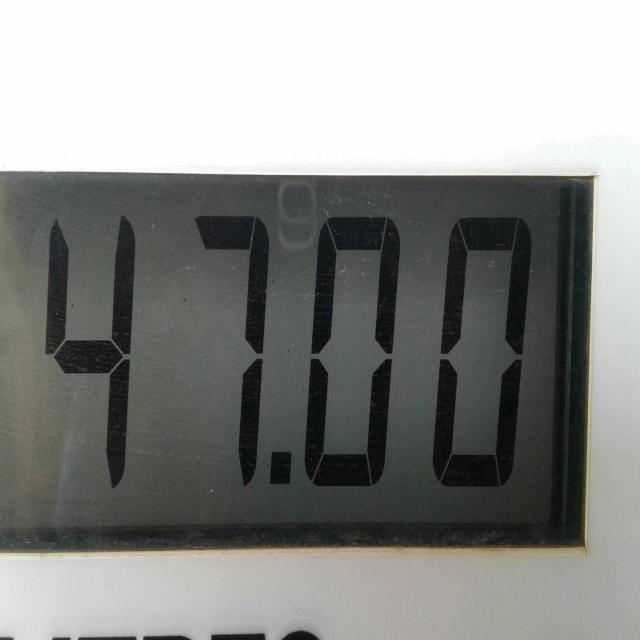.: (264, 436, 310, 571)
0: (434, 215, 526, 494), (310, 216, 396, 484)
4: (49, 221, 132, 492)
7: (196, 212, 266, 484)
